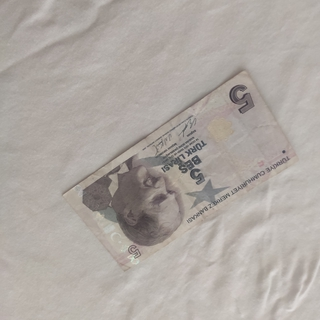5TLFront: (61, 69, 298, 271)
